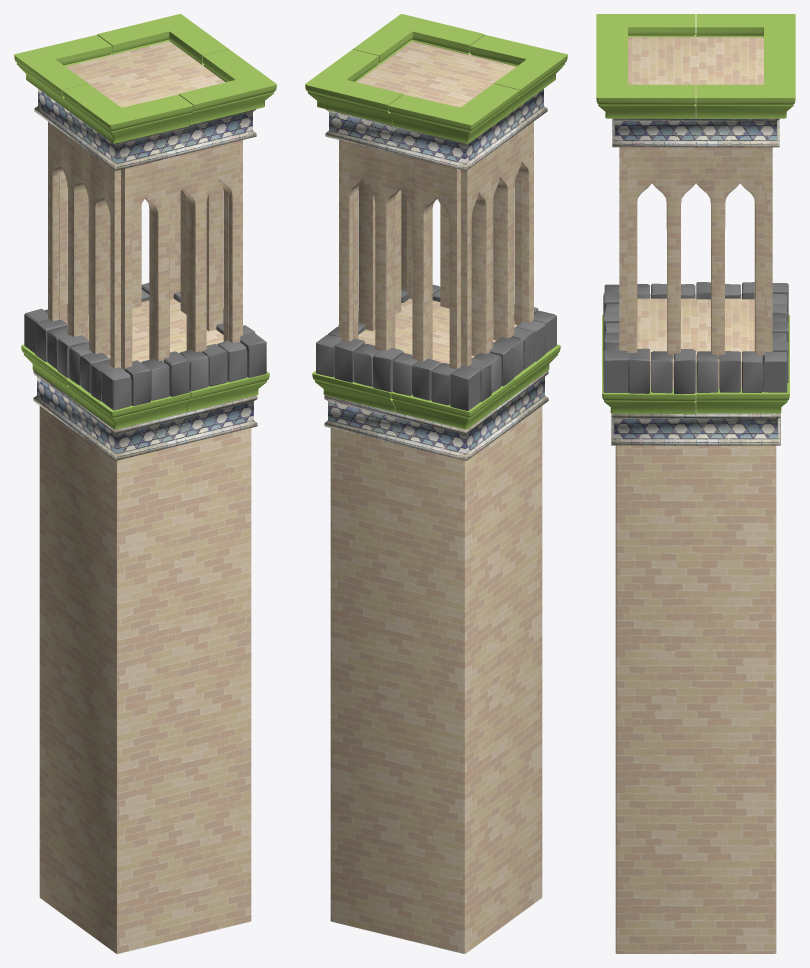
File: SM_windtower.fbx
3 views of the same model, side by side, from view 1: azimuth 30°, elevation 25°; view 2: azimuth 150°, elevation 25°; view 3: azimuth 270°, elevation 25° (orthographic). The views are drawn at different scales.
Parts seen in each view (by area): view 1: Windtower; view 2: Windtower; view 3: Windtower.
Part boxes in pixels (left/top/right/bottom): Windtower: left=14, top=14, right=276, bottom=953; Windtower: left=305, top=14, right=567, bottom=953; Windtower: left=596, top=14, right=795, bottom=953.
Size of the model in its own units: 129 by 619 by 129.
